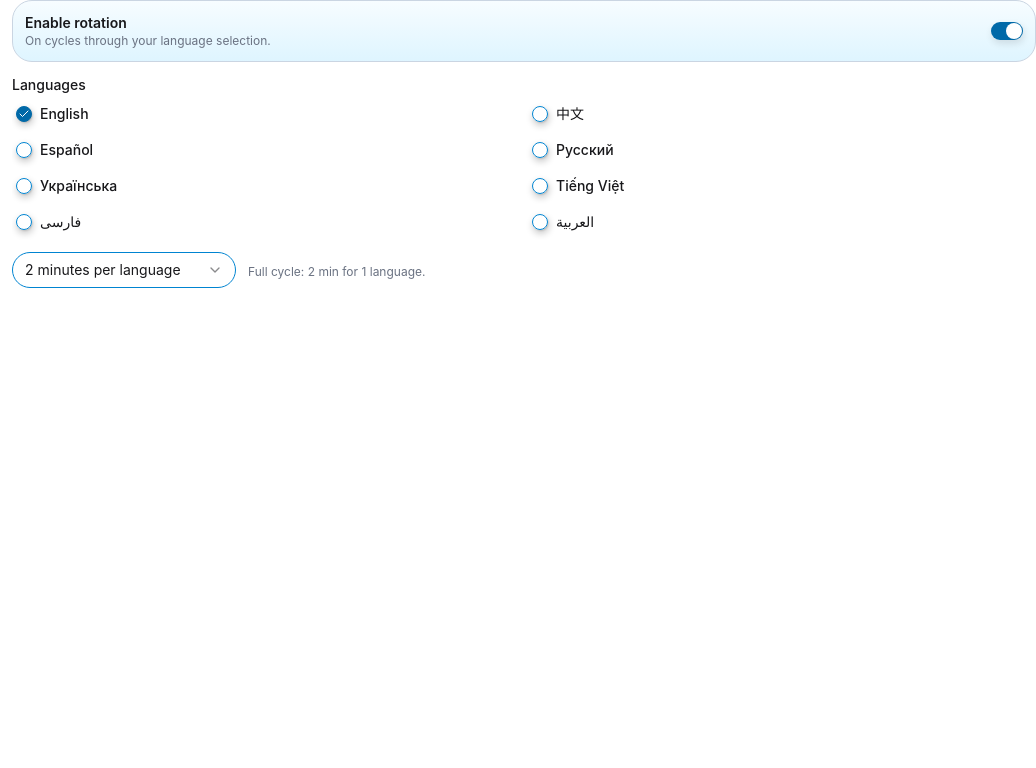
Test: DisplayLanguageRotationEditor › uses a 1 to 10 minute dropdown without a standalone interval label
Click the dropdown labelled "minutes per language" at (124, 270), box [12,252,236,288]
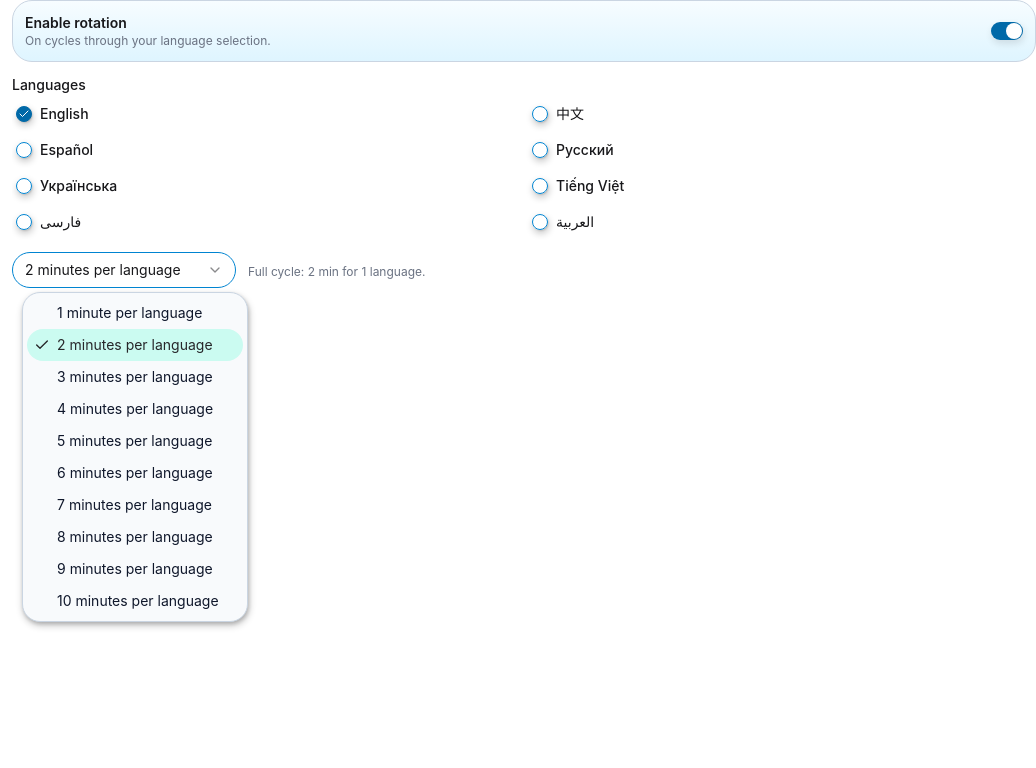
Expected: the option "5 minutes per language" is shown, [57,432,212,449]
